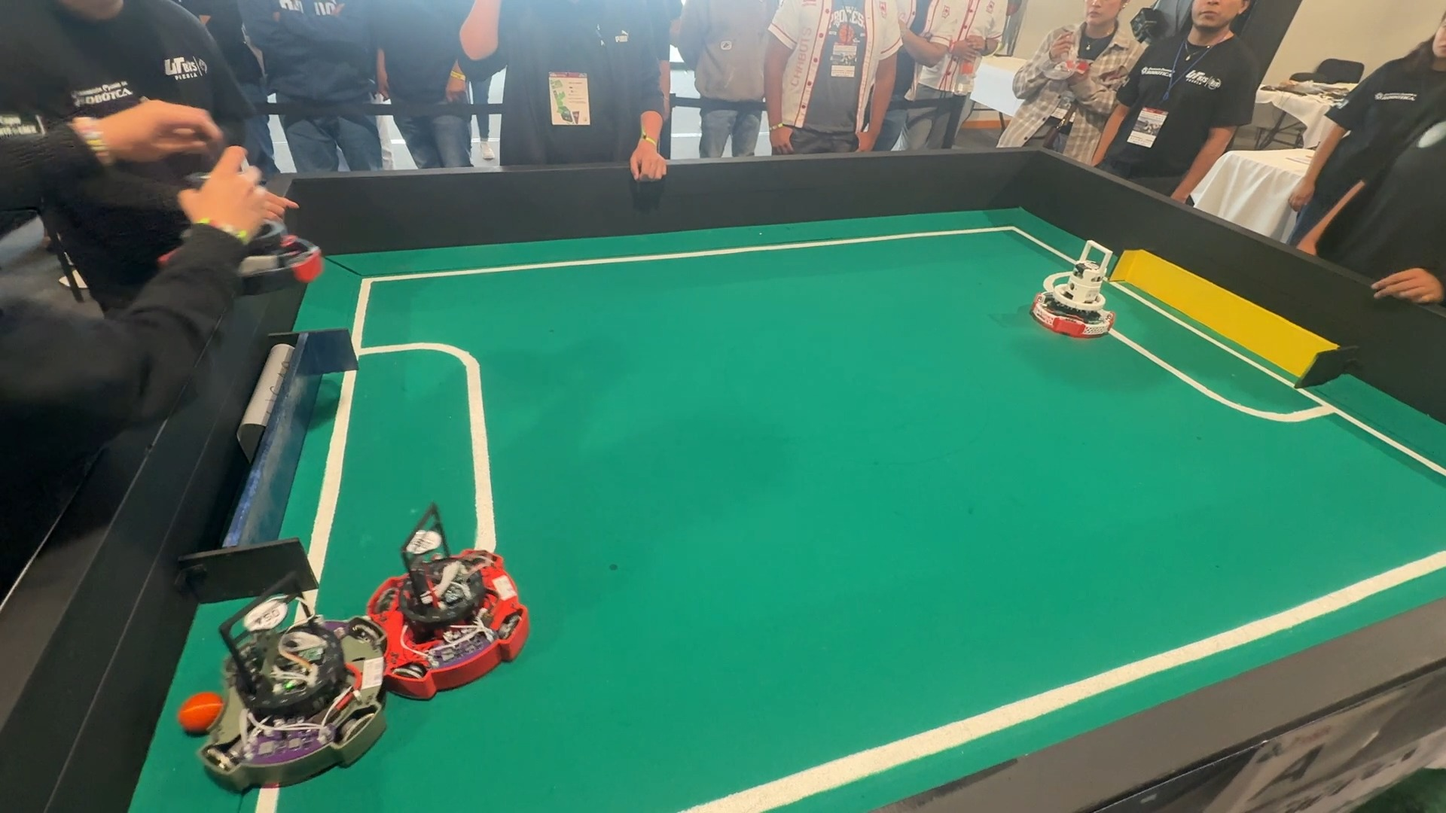Robot: (193, 587, 396, 797), (363, 499, 532, 716), (1023, 233, 1149, 346)
pelota: (170, 693, 221, 738)
